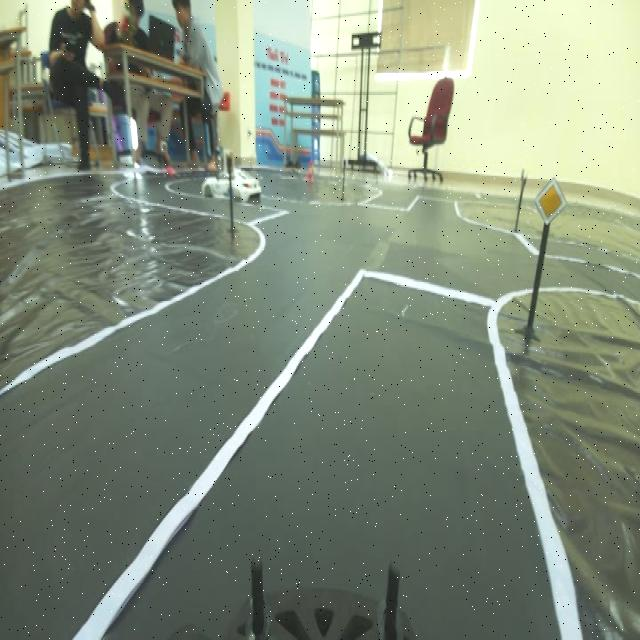priority: (533, 173, 566, 228)
